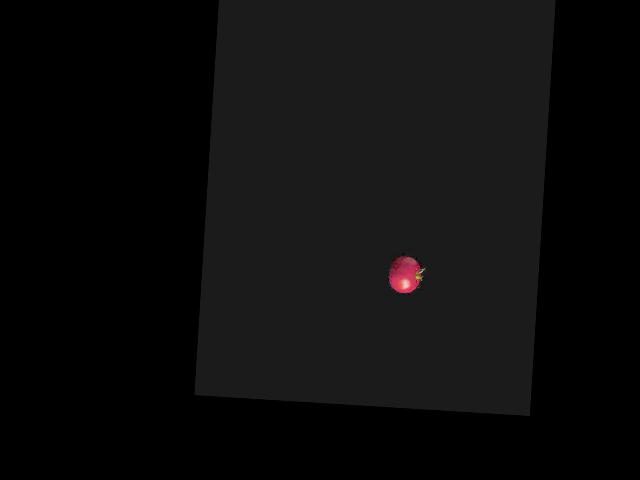tomato: (388, 255, 421, 293)
